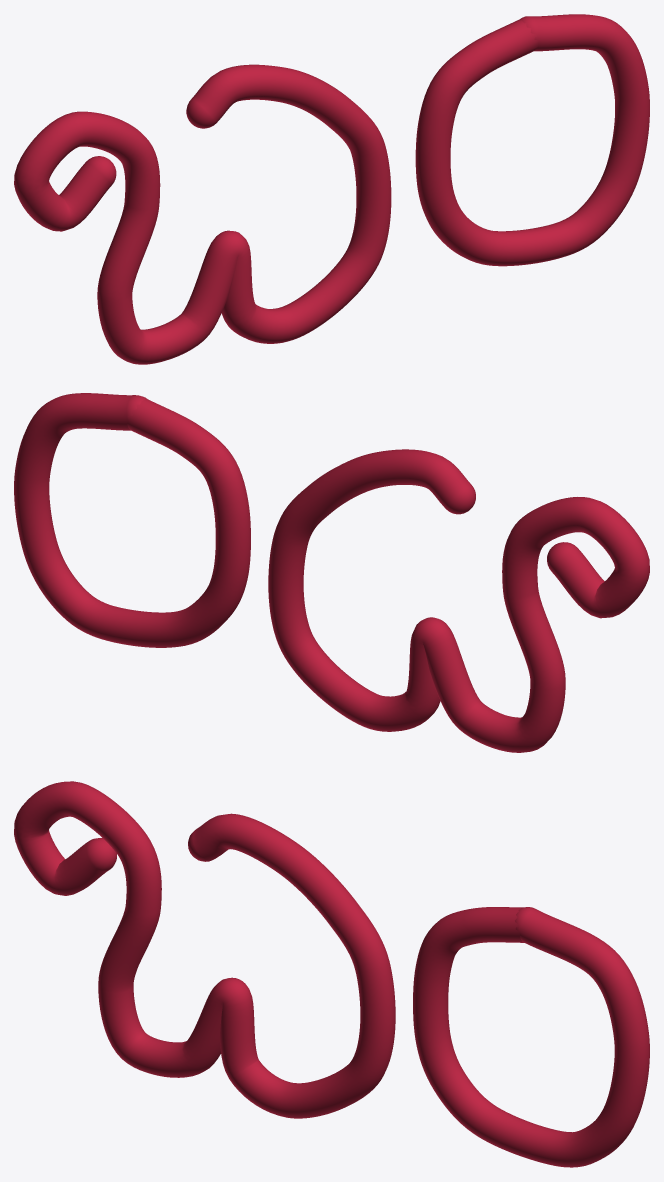
Rendered from bun_telugu.fbx.
3 views of the same model, one above another, from view 1: azimuth 30°, elevation 25°; view 2: azimuth 150°, elevation 25°; view 3: azimuth 330°, elevation 25° (orthographic).
Visible parts, largest first — view 1: root (×2); view 2: root (×2); view 3: root (×2).
Part boxes in pixels (left/top/right/bottom): root (×2): left=14, top=14, right=649, bottom=364; root (×2): left=14, top=393, right=649, bottom=752; root (×2): left=14, top=781, right=649, bottom=1167.
Size of the model in its own units: 1.23 by 0.5339 by 0.0716.
